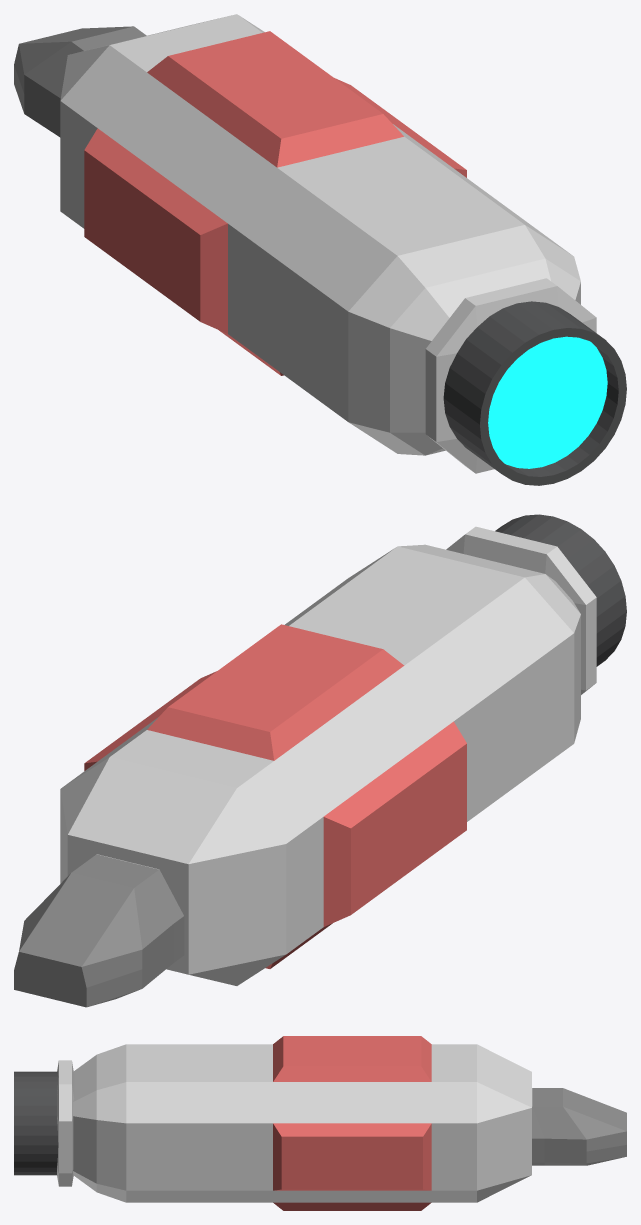
File: Spaceship_v2.fbx
3 renders of one model, top to bottom at view 1: azimuth 30°, elevation 25°; view 2: azimuth 150°, elevation 25°; view 3: azimuth 270°, elevation 25°, orthographic. The views are drawn at different scales.
Parts seen in each view (by area): view 1: Cube; view 2: Cube; view 3: Cube.
Boxes of the visible parts, x1,y1,x2,y2 form: Cube: (14, 14, 626, 485); Cube: (14, 514, 626, 1007); Cube: (14, 1036, 626, 1210).
Size of the model in its own units: 27.86 by 23.69 by 91.06.
